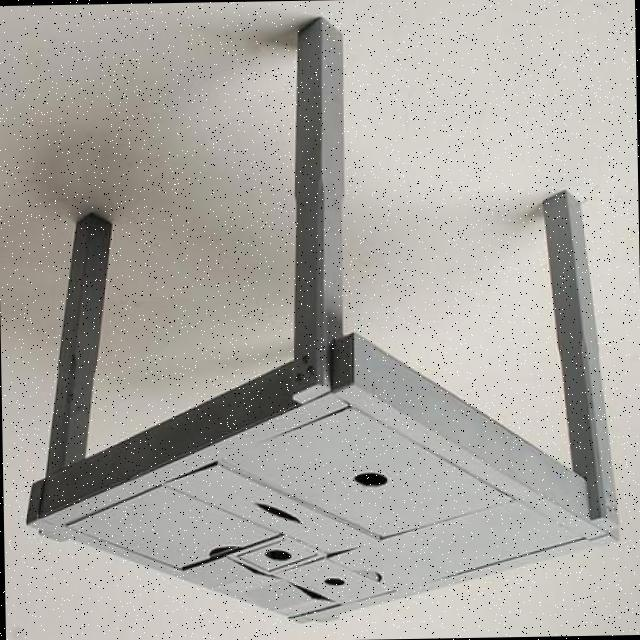Table: (6, 1, 640, 639)
